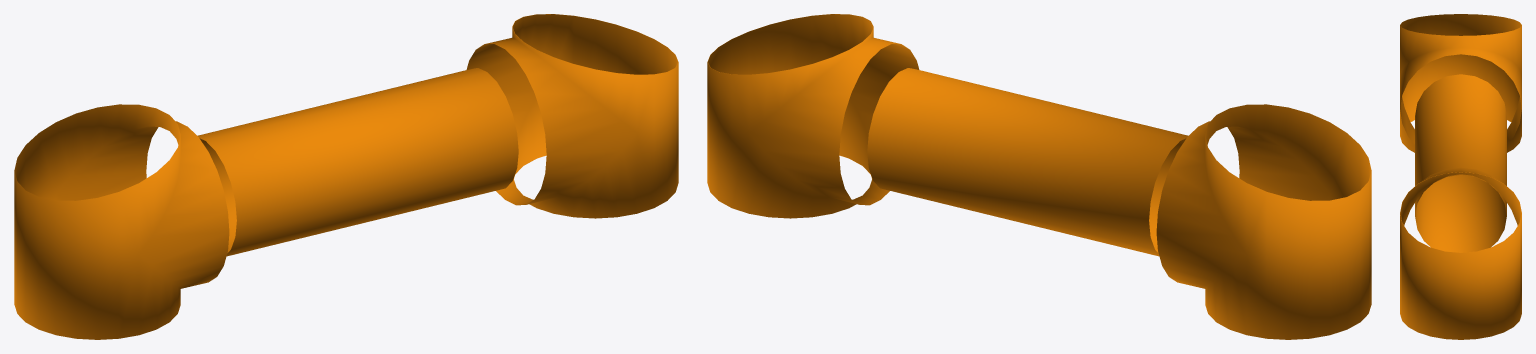
3 renders of one model, left to right at view 1: azimuth 30°, elevation 25°; view 2: azimuth 150°, elevation 25°; view 3: azimuth 270°, elevation 25°, orthographic. The views are drawn at different scales.
Bounding box in the file's own units: 0.526 × 0.135 × 0.118.
